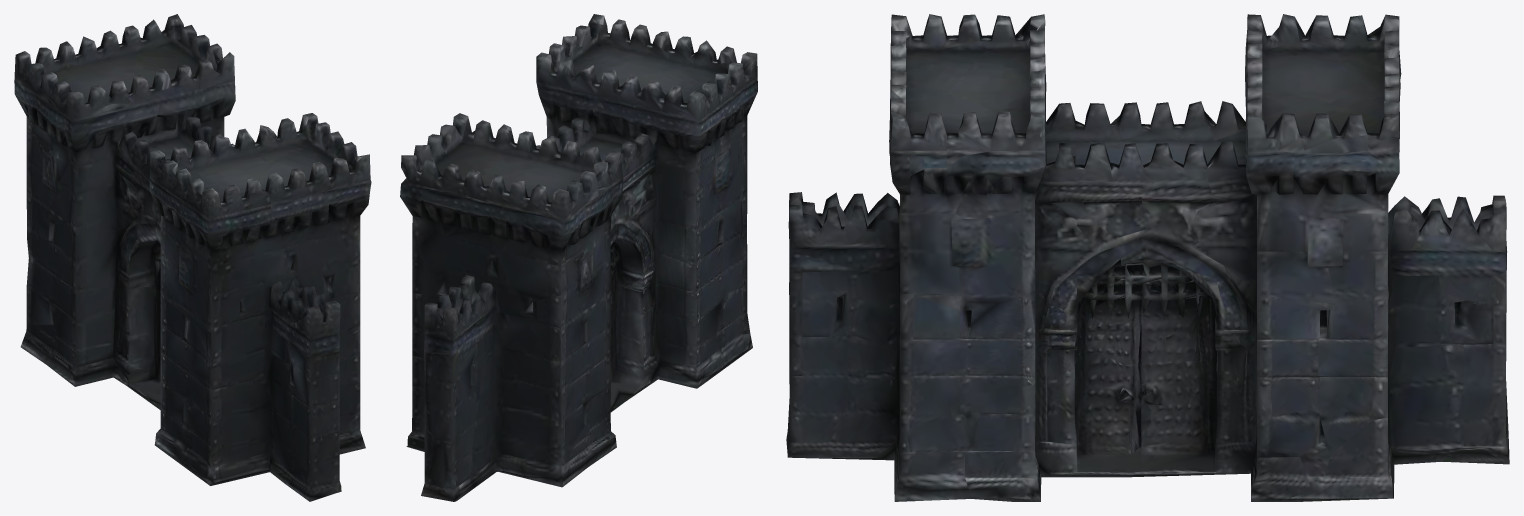
The model's file is castle_gate_iron.glb.
3 renders of one model, left to right at view 1: azimuth 30°, elevation 25°; view 2: azimuth 150°, elevation 25°; view 3: azimuth 270°, elevation 25°, orthographic. The views are drawn at different scales.
Parts seen in each view (by area): view 1: tripo_node_b3218a17-f934-4566-9f43-ab2ecdddf4b3; view 2: tripo_node_b3218a17-f934-4566-9f43-ab2ecdddf4b3; view 3: tripo_node_b3218a17-f934-4566-9f43-ab2ecdddf4b3.
Part boxes in pixels (x1,y1,x2,y2): tripo_node_b3218a17-f934-4566-9f43-ab2ecdddf4b3: (14,14,371,501); tripo_node_b3218a17-f934-4566-9f43-ab2ecdddf4b3: (400,14,757,501); tripo_node_b3218a17-f934-4566-9f43-ab2ecdddf4b3: (786,14,1509,501).
Size of the model in its own units: 0.3391 by 0.5777 by 0.9799.
1 material, 1 textured.
